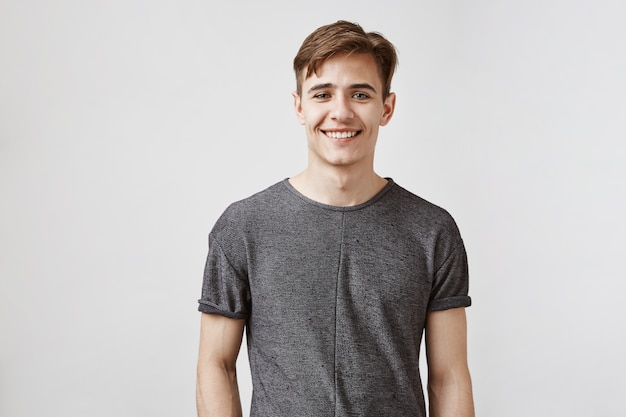teen: (279, 22, 406, 181)
